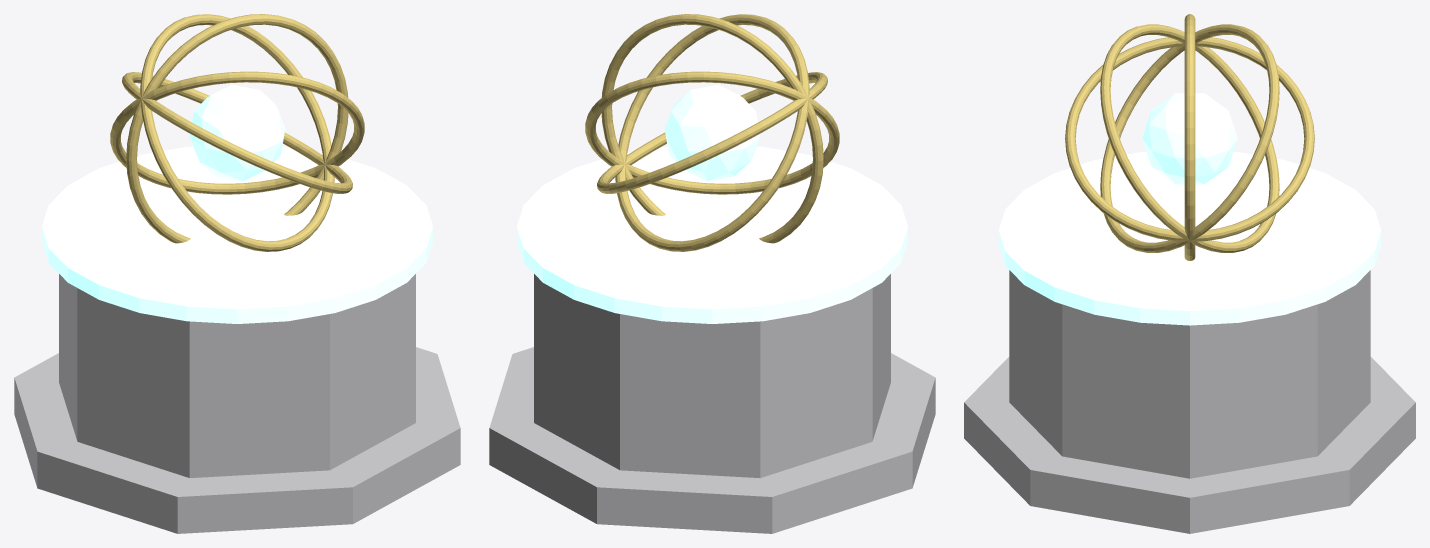
The model's file is starmap_pedestal.glb.
The picture shows the model from 3 angles, left to right: view 1: azimuth 30°, elevation 25°; view 2: azimuth 150°, elevation 25°; view 3: azimuth 270°, elevation 25°; orthographic projection. The views are drawn at different scales.
Parts seen in each view (by area): view 1: Cylinder.001, StarMapPlatter, Cylinder, Torus.001, Icosphere, Torus.003, Torus.002, Torus; view 2: Cylinder.001, StarMapPlatter, Cylinder, Torus.003, Icosphere, Torus.001, Torus.002, Torus; view 3: Cylinder.001, StarMapPlatter, Cylinder, Torus, Torus.001, Torus.003, Icosphere, Torus.002.
Boxes of the visible parts, left/top/right/bottom form: Cylinder.001: left=59, top=274, right=415, bottom=477; StarMapPlatter: left=42, top=146, right=432, bottom=323; Cylinder: left=14, top=347, right=460, bottom=533; Torus.001: left=140, top=14, right=334, bottom=251; Icosphere: left=189, top=84, right=285, bottom=181; Torus.003: left=110, top=71, right=364, bottom=194; Torus.002: left=126, top=14, right=348, bottom=243; Torus: left=122, top=72, right=352, bottom=193; Cylinder.001: left=534, top=274, right=890, bottom=477; StarMapPlatter: left=517, top=146, right=907, bottom=323; Cylinder: left=489, top=347, right=935, bottom=533; Torus.003: left=615, top=14, right=809, bottom=251; Icosphere: left=664, top=84, right=760, bottom=181; Torus.001: left=585, top=71, right=839, bottom=194; Torus.002: left=601, top=14, right=823, bottom=243; Torus: left=597, top=72, right=827, bottom=193; Cylinder.001: left=1009, top=270, right=1370, bottom=478; StarMapPlatter: left=998, top=152, right=1381, bottom=325; Cylinder: left=964, top=357, right=1415, bottom=533; Torus: left=1065, top=37, right=1314, bottom=241; Torus.001: left=1100, top=24, right=1279, bottom=252; Torus.003: left=1100, top=24, right=1279, bottom=252; Icosphere: left=1142, top=93, right=1237, bottom=184; Torus.002: left=1184, top=14, right=1195, bottom=260.
Size of the model in its own units: 1.7 by 1.72 by 1.7.
